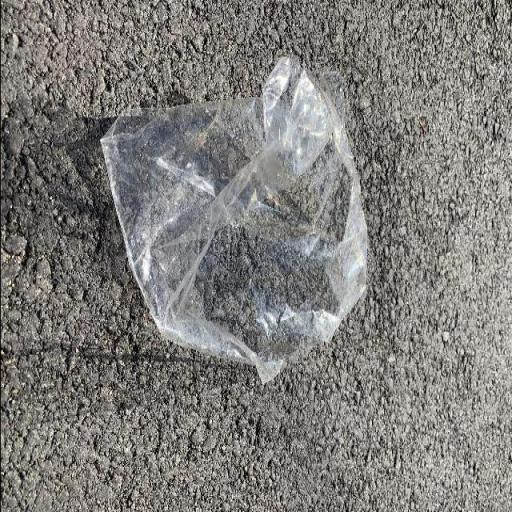plastic-bag: (95, 52, 377, 387)
